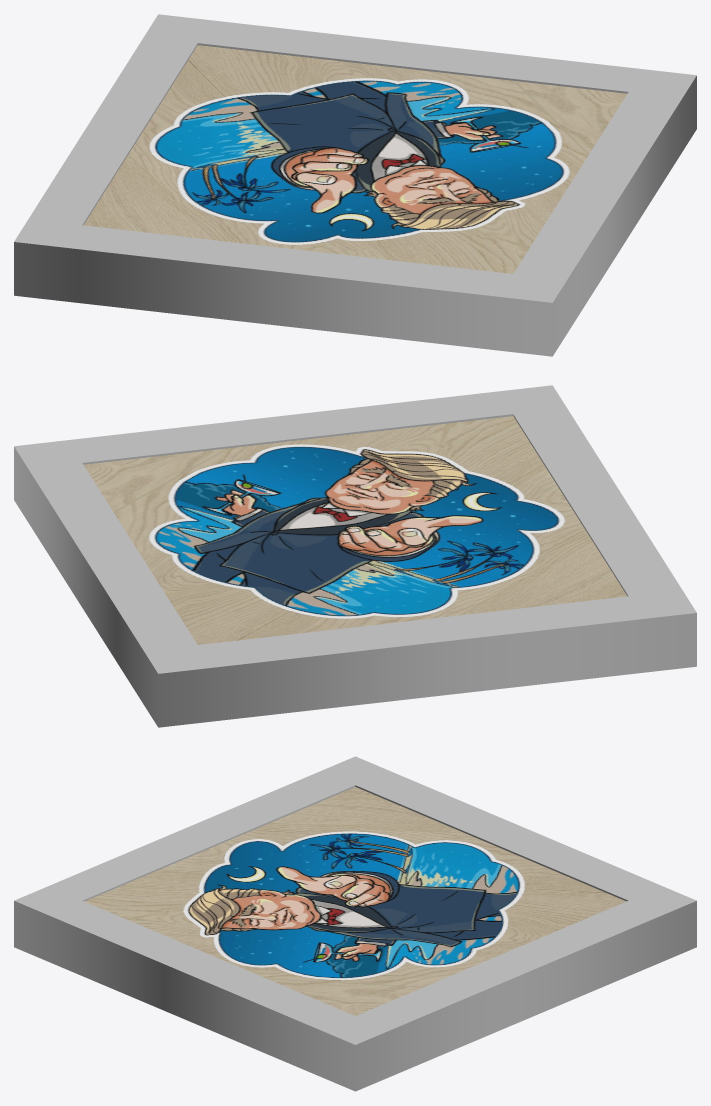
File: Puzzle_37.FBX
The picture shows the model from 3 angles, top to bottom: view 1: azimuth 30°, elevation 25°; view 2: azimuth 150°, elevation 25°; view 3: azimuth 270°, elevation 25°; orthographic projection. The views are drawn at different scales.
Visible parts, largest first — view 1: Wood, 032, 028, 033, 031, 027, 9, 029, 030; view 2: Wood, 028, 032, 033, 031, 027, 9, 029, 030; view 3: Wood, 028, 032, 033, 031, 027, 9, 029, 030.
Part boxes in pixels (x1,y1,x2,y2): Wood: (14, 14, 696, 356); 032: (112, 45, 485, 180); 028: (257, 155, 540, 273); 033: (345, 69, 626, 230); 031: (84, 119, 321, 249); 027: (210, 102, 394, 193); 9: (315, 114, 487, 187); 029: (219, 177, 433, 217); 030: (396, 128, 525, 186); Wood: (14, 385, 696, 727); 028: (260, 416, 570, 537); 032: (142, 500, 511, 644); 033: (84, 428, 406, 572); 031: (343, 507, 626, 609); 027: (249, 503, 491, 605); 9: (220, 499, 392, 560); 029: (395, 474, 491, 564); 030: (223, 471, 389, 515); Wood: (14, 756, 696, 1091); 028: (84, 844, 290, 958); 032: (359, 816, 626, 958); 033: (154, 930, 492, 1015); 031: (219, 787, 492, 874); 027: (288, 845, 492, 930); 9: (290, 902, 425, 958); 029: (219, 844, 355, 902); 030: (290, 904, 355, 958).
Bounding box in the file's own units: 4.26 × 0.33 × 4.26.
